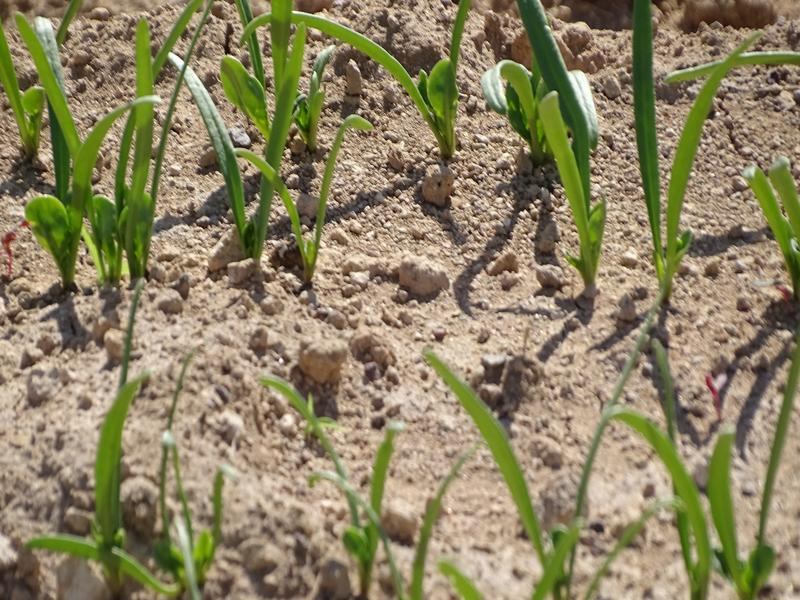Espinaca: (611, 336, 793, 600), (27, 365, 224, 592), (186, 9, 352, 275), (11, 8, 175, 270), (423, 350, 601, 591), (483, 4, 608, 277), (629, 4, 733, 283), (280, 378, 414, 575), (363, 17, 468, 161), (742, 154, 800, 277)
